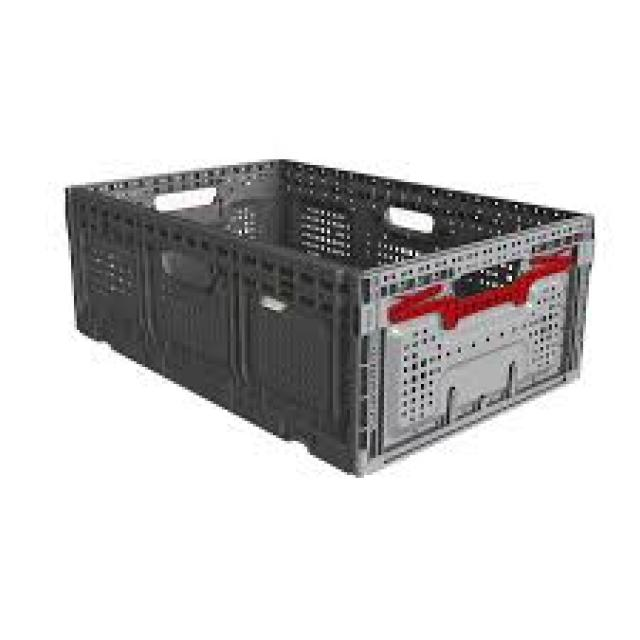basket: (25, 122, 609, 511)
